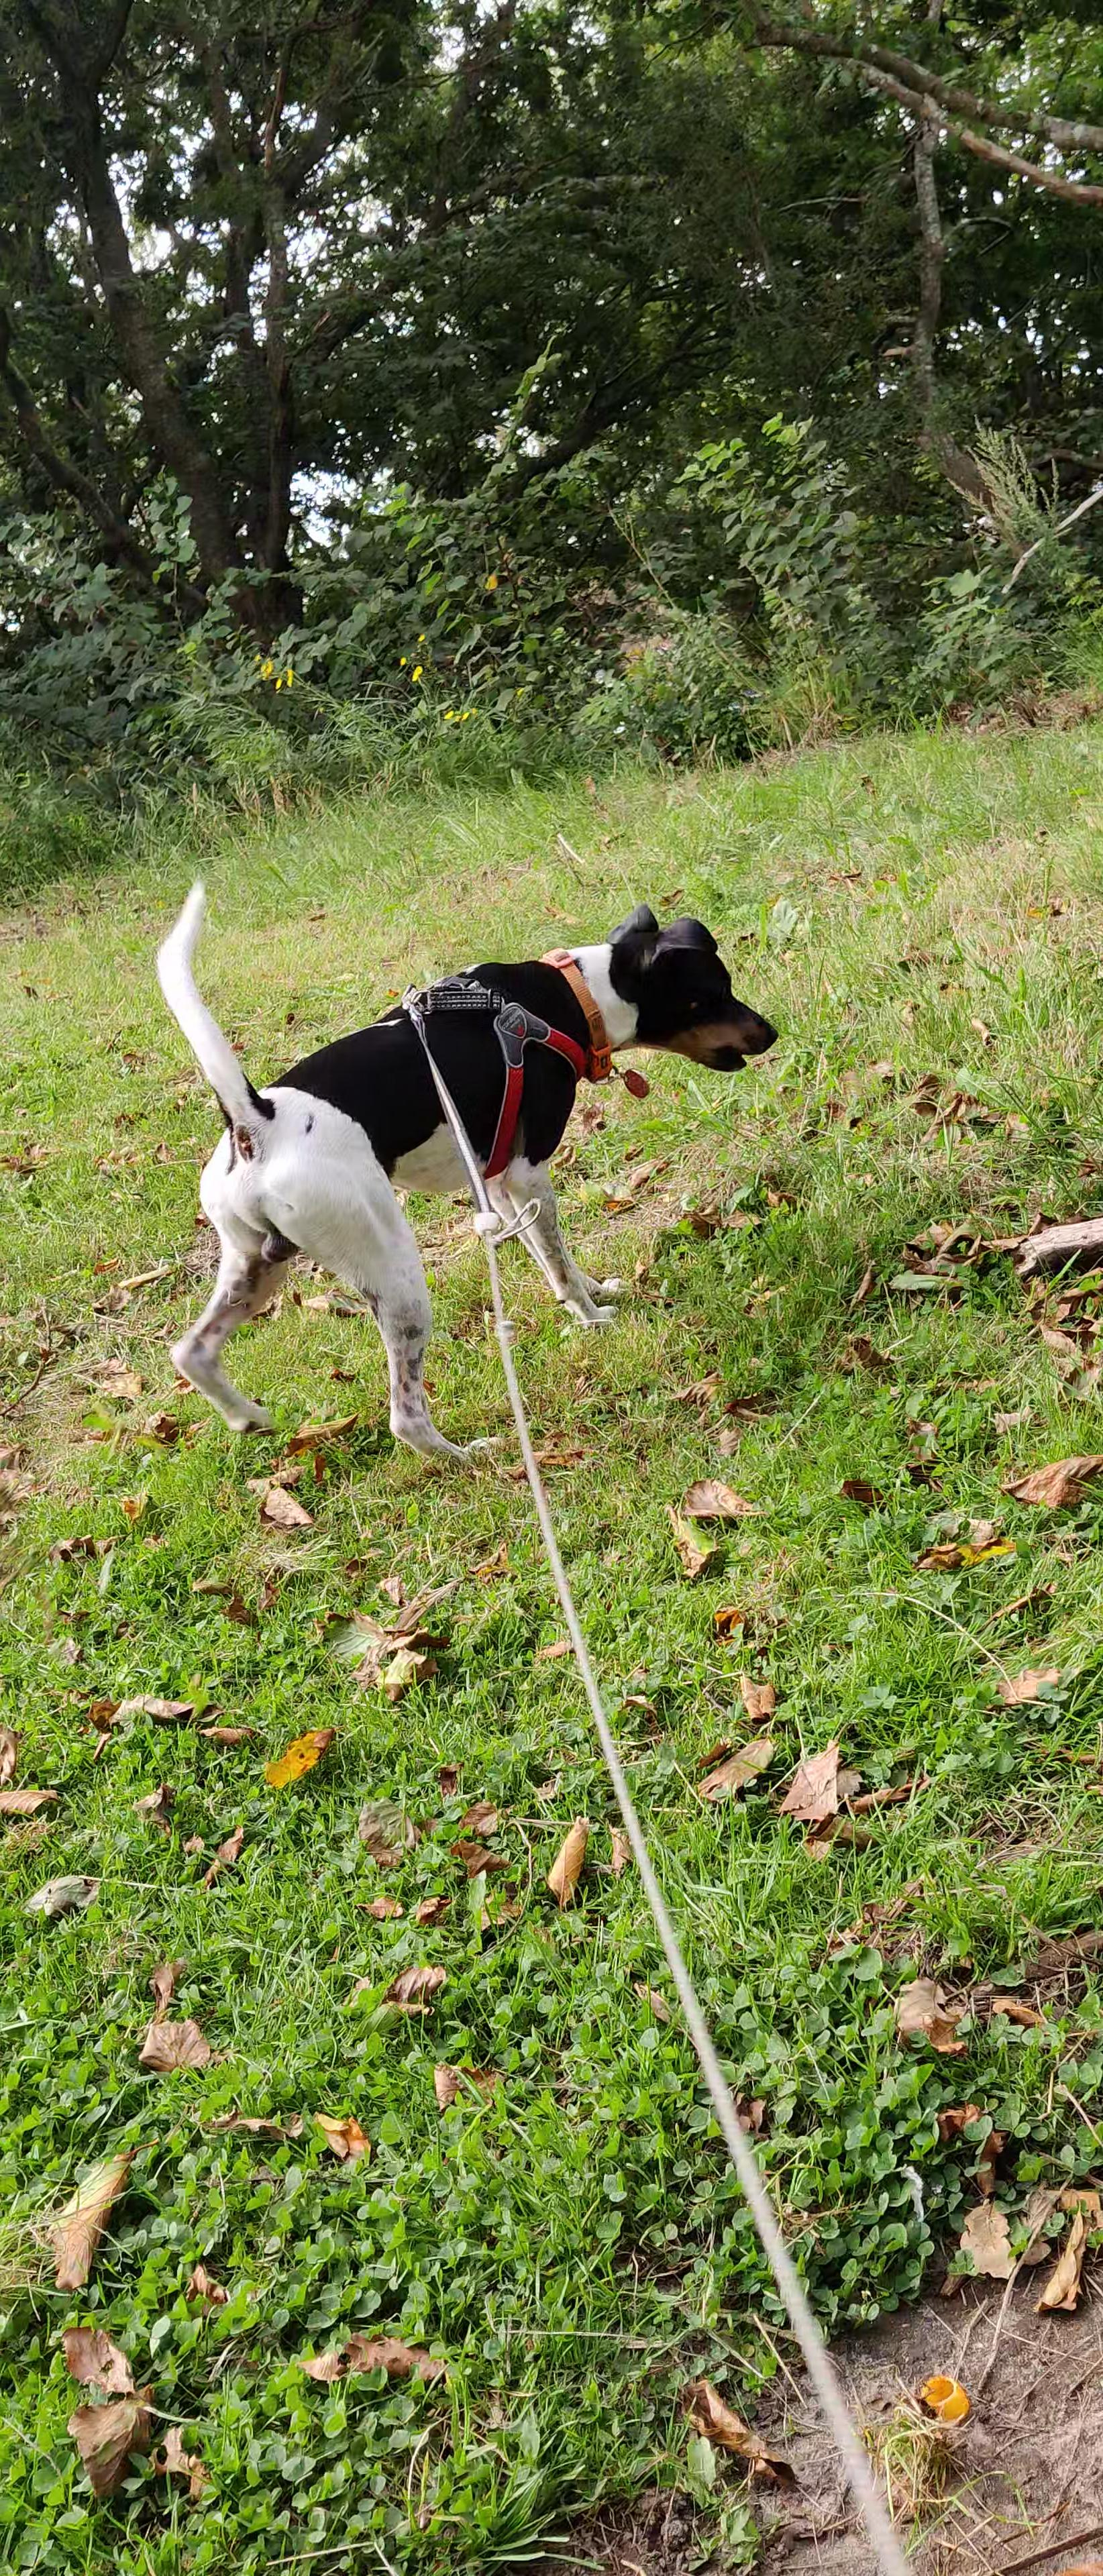Dog: (132, 871, 796, 1475)
